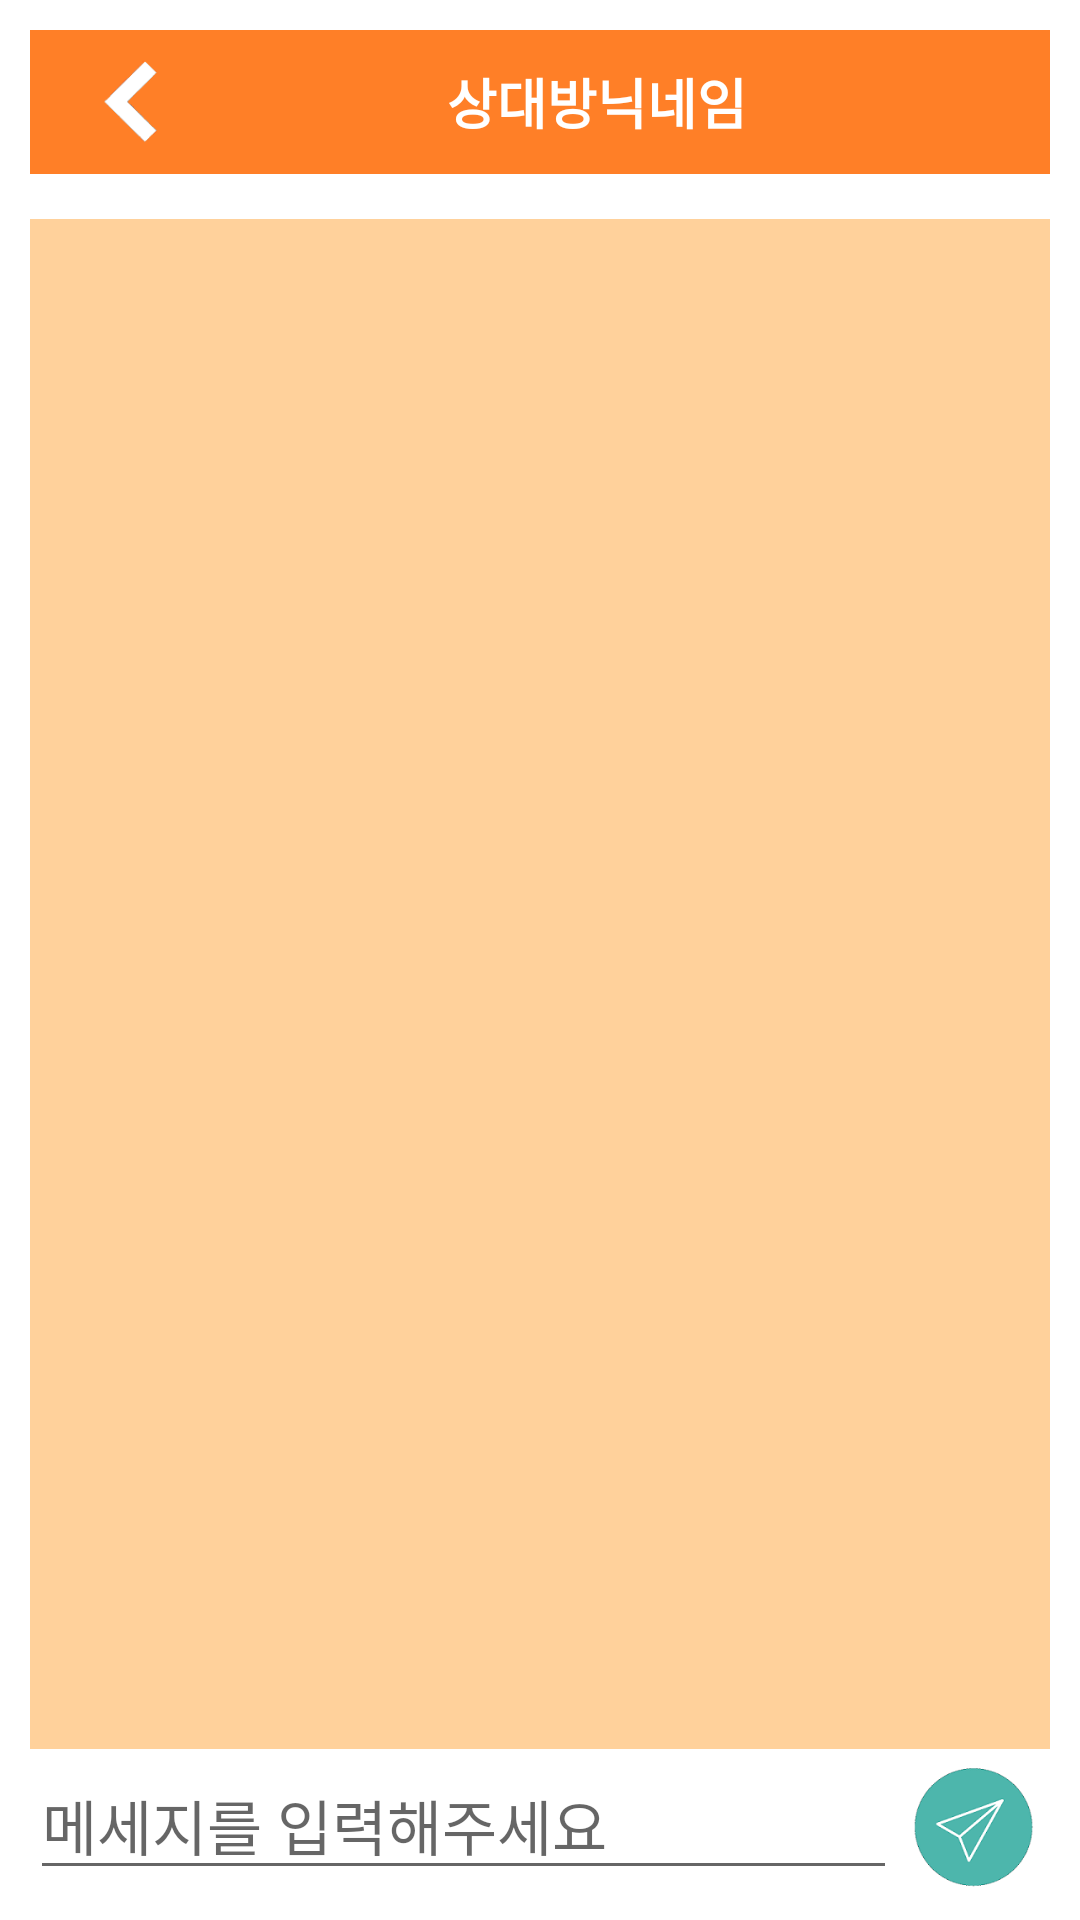

Named icons in this screenshot (1080×1920) and their bounding boxes, (x1, y1, x2, y2):
backicon: (30, 30, 234, 174)
send: (914, 1768, 1033, 1887)
